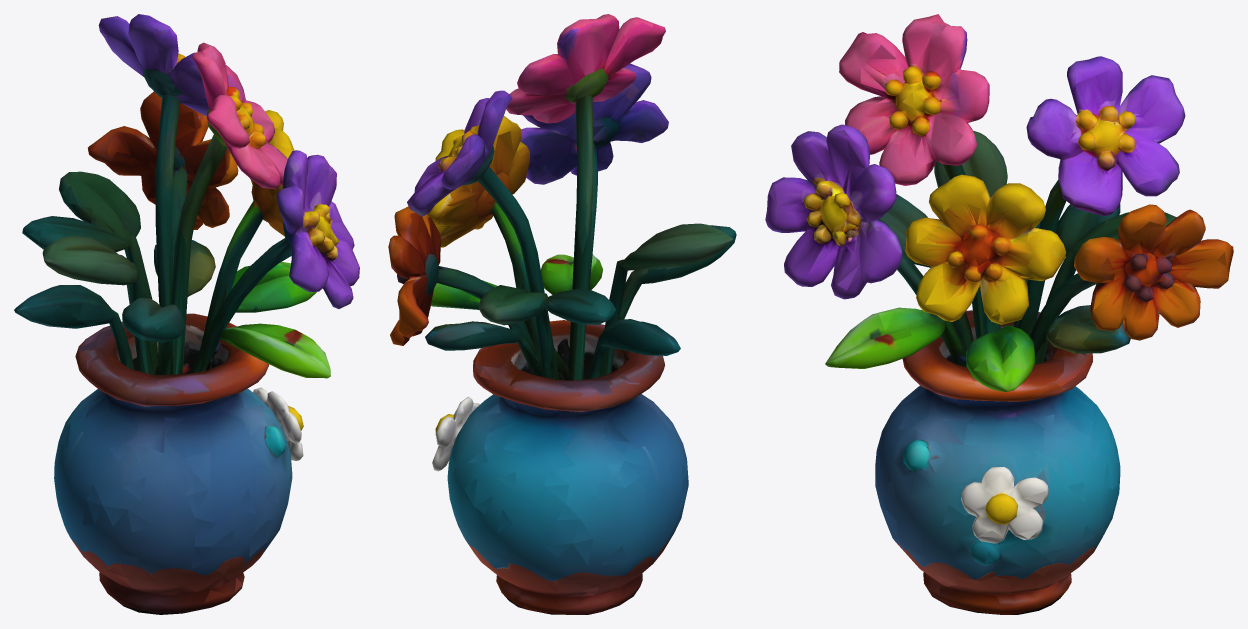
Rendered from florero.obj.
3 views of the same model, side by side, from view 1: azimuth 30°, elevation 25°; view 2: azimuth 150°, elevation 25°; view 3: azimuth 270°, elevation 25° (orthographic). The views are drawn at different scales.
Visible parts, largest first — view 1: tripo_node_3025ebb3-ec9f-4ee4-830d-b1123b245430; view 2: tripo_node_3025ebb3-ec9f-4ee4-830d-b1123b245430; view 3: tripo_node_3025ebb3-ec9f-4ee4-830d-b1123b245430.
Boxes of the visible parts, x1,y1,x2,y2 form: tripo_node_3025ebb3-ec9f-4ee4-830d-b1123b245430: (14, 14, 359, 614); tripo_node_3025ebb3-ec9f-4ee4-830d-b1123b245430: (388, 14, 736, 614); tripo_node_3025ebb3-ec9f-4ee4-830d-b1123b245430: (765, 14, 1233, 614).
Size of the model in its own units: 0.5739 by 1 by 0.7423.
1 material, 1 textured.
